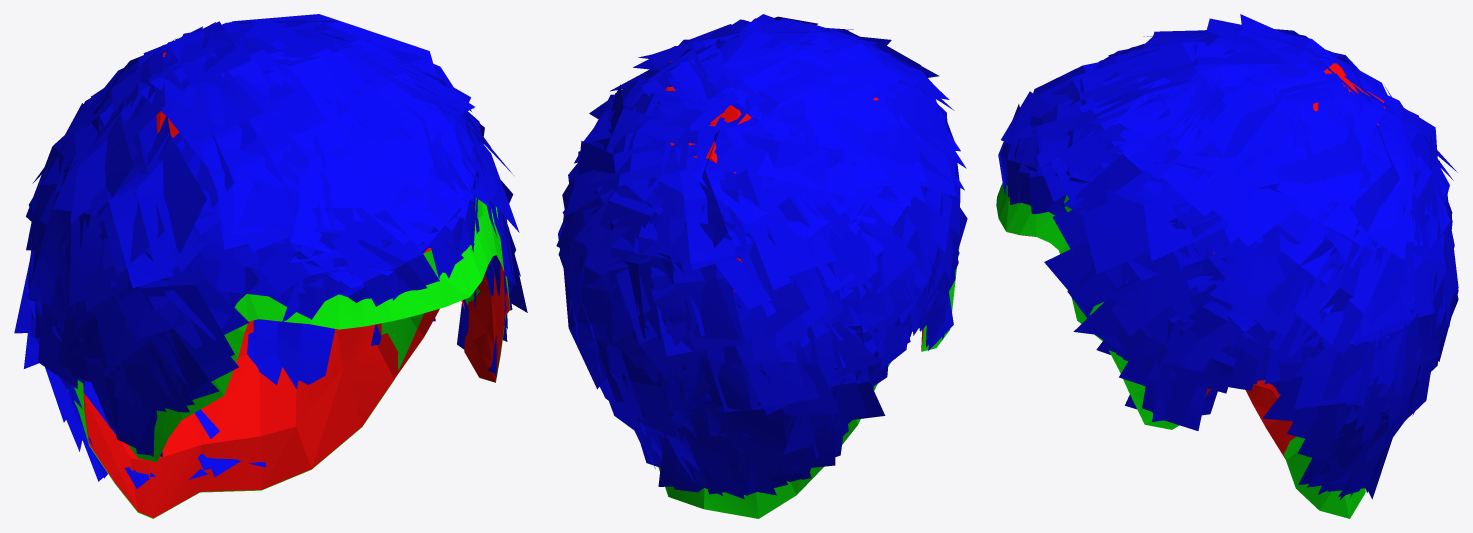
The model's file is hair_010.obj.
3 views of the same model, side by side, from view 1: azimuth 30°, elevation 25°; view 2: azimuth 150°, elevation 25°; view 3: azimuth 270°, elevation 25° (orthographic). The views are drawn at different scales.
Bounding box in the file's own units: 19.42 × 22.45 × 20.73.
